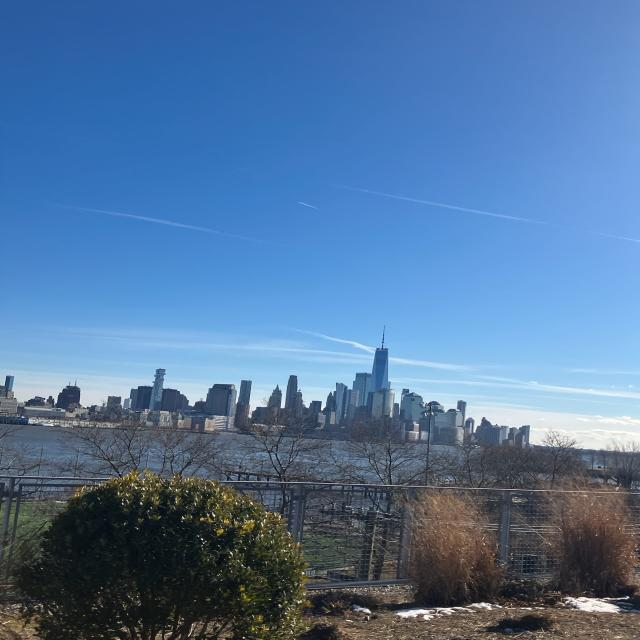WTC: (372, 326, 390, 379)
